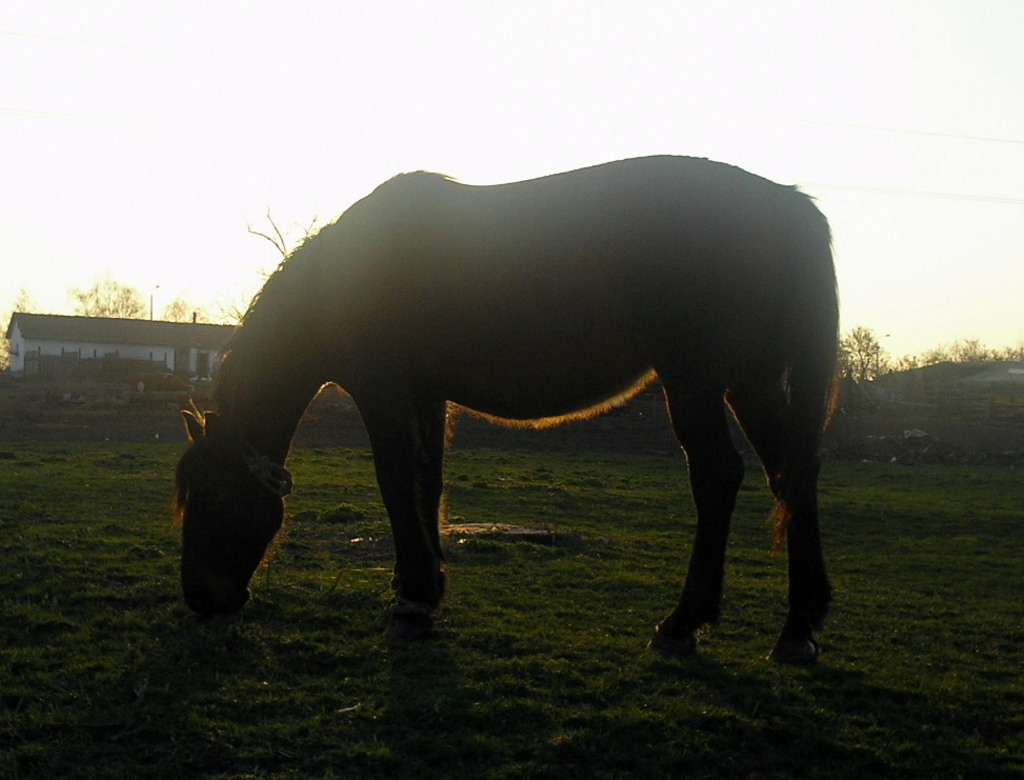horse: (168, 148, 837, 661)
